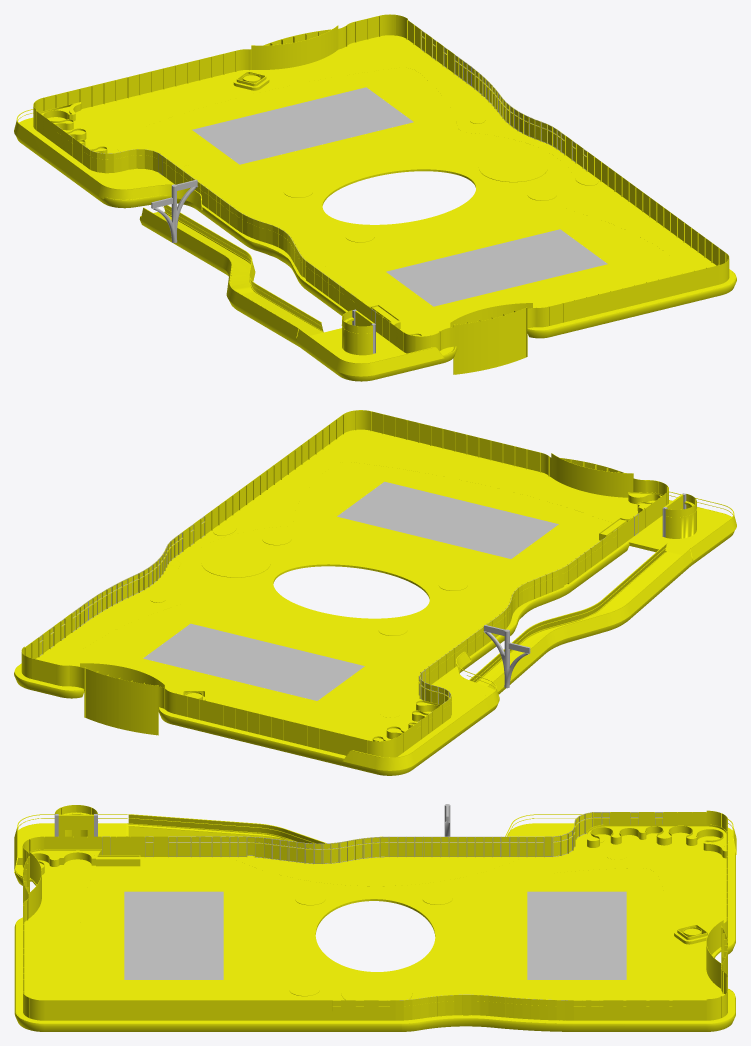
File: sm_hana_building_5f_out.glb
The picture shows the model from 3 angles, top to bottom: view 1: azimuth 30°, elevation 25°; view 2: azimuth 150°, elevation 25°; view 3: azimuth 270°, elevation 25°; orthographic projection. The views are drawn at different scales.
Visible parts, largest first — view 1: sm_hana_building_5f_out; view 2: sm_hana_building_5f_out; view 3: sm_hana_building_5f_out.
Boxes of the visible parts, bbox=[...] form: sm_hana_building_5f_out: bbox=[14, 14, 736, 381]; sm_hana_building_5f_out: bbox=[14, 410, 736, 775]; sm_hana_building_5f_out: bbox=[14, 804, 736, 1031].
Size of the model in its own units: 66.18 by 11.01 by 100.
Materials: 14 (11 with a texture image).
